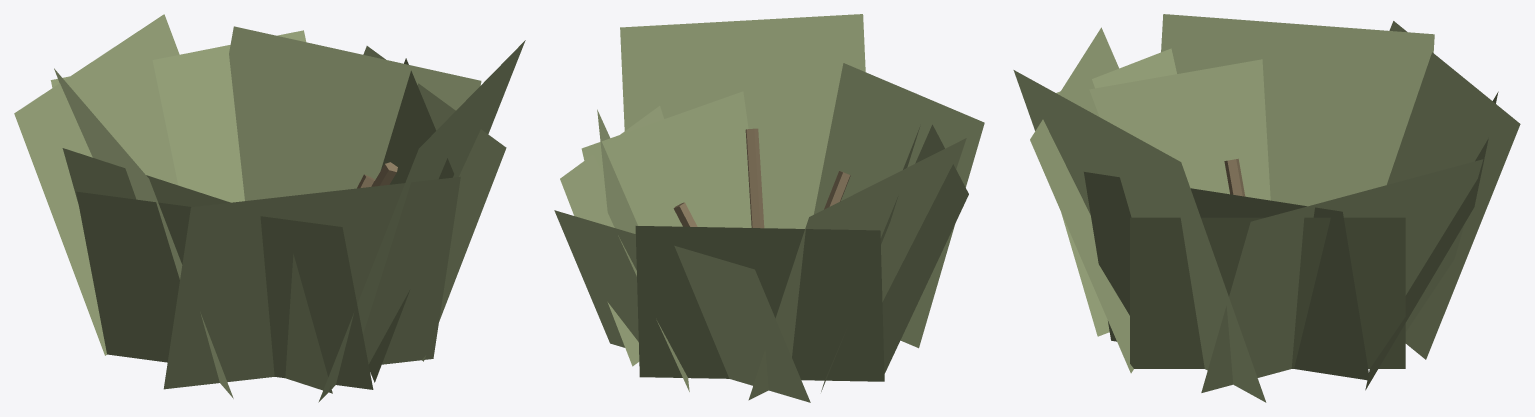
The model's file is bush_a.glb.
3 renders of one model, left to right at view 1: azimuth 30°, elevation 25°; view 2: azimuth 150°, elevation 25°; view 3: azimuth 270°, elevation 25°, orthographic. The views are drawn at different scales.
Parts seen in each view (by area): view 1: LOD0; view 2: LOD0; view 3: LOD0.
Part boxes in pixels (x1,y1,x2,y2): LOD0: [14, 14, 525, 402]; LOD0: [554, 14, 984, 402]; LOD0: [1013, 14, 1520, 402].
Size of the model in its own units: 1.14 by 0.8073 by 1.2.
